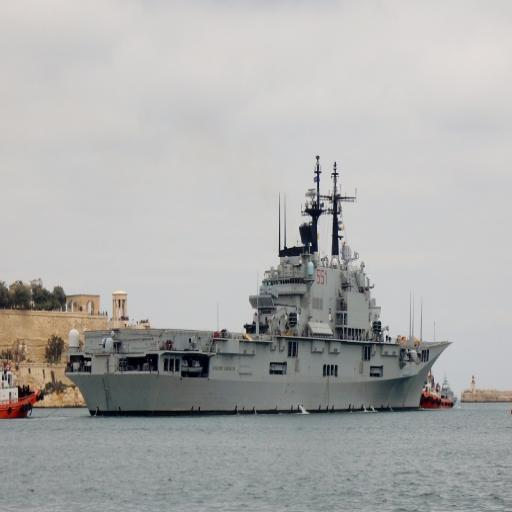Portanaves: (57, 152, 458, 416)
